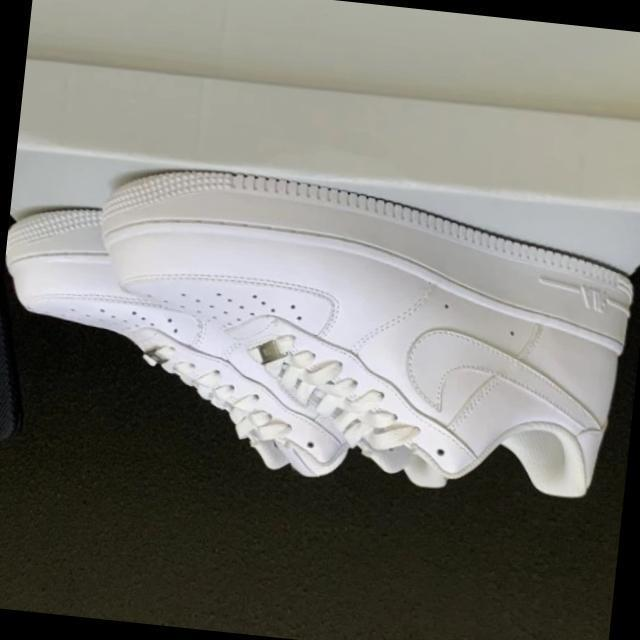nike original air force: (74, 160, 640, 512), (0, 200, 472, 493)
